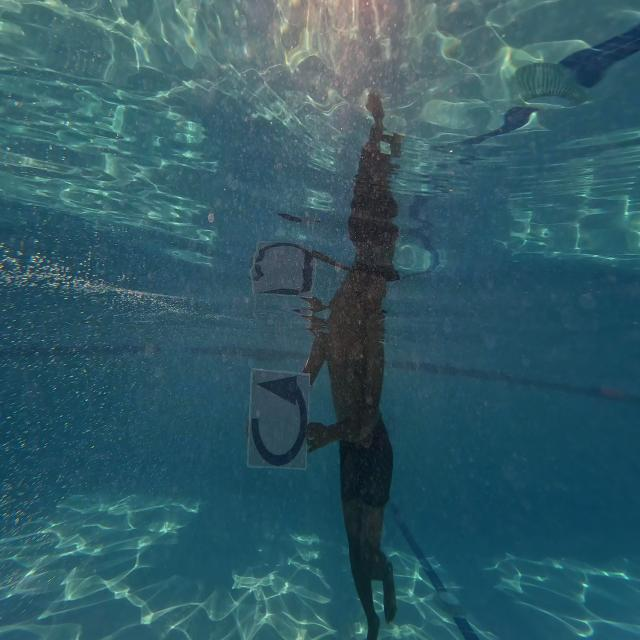blue_side: (248, 370, 308, 476)
